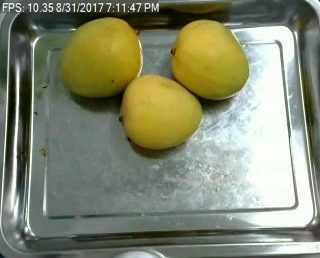Mango: (58, 14, 146, 100), (120, 71, 206, 151), (170, 19, 250, 101)
